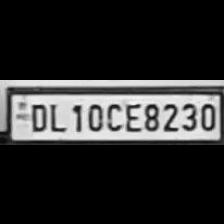0: (84, 98, 104, 130), (198, 99, 216, 129)
1: (65, 99, 83, 131)
2: (159, 99, 179, 131)
3: (178, 98, 196, 130)
8: (142, 98, 160, 130)
C: (104, 98, 122, 130)
D: (25, 99, 47, 131)
E: (122, 99, 142, 131)
L: (47, 99, 66, 131)
